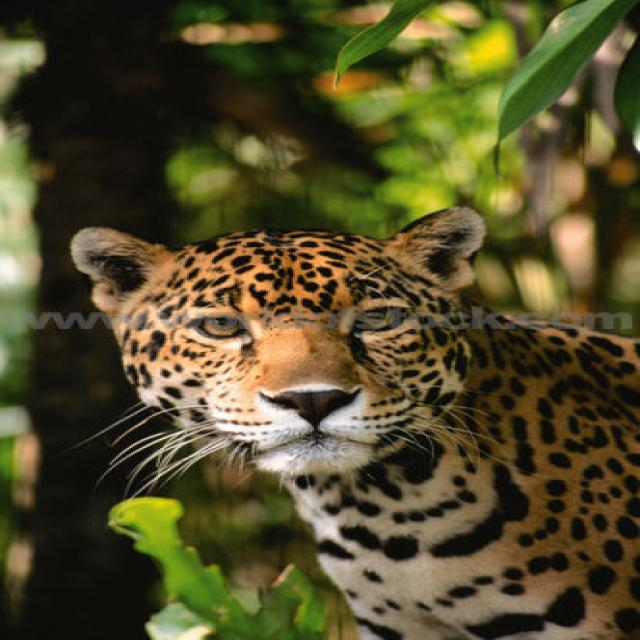Leopard: (66, 204, 634, 636)
